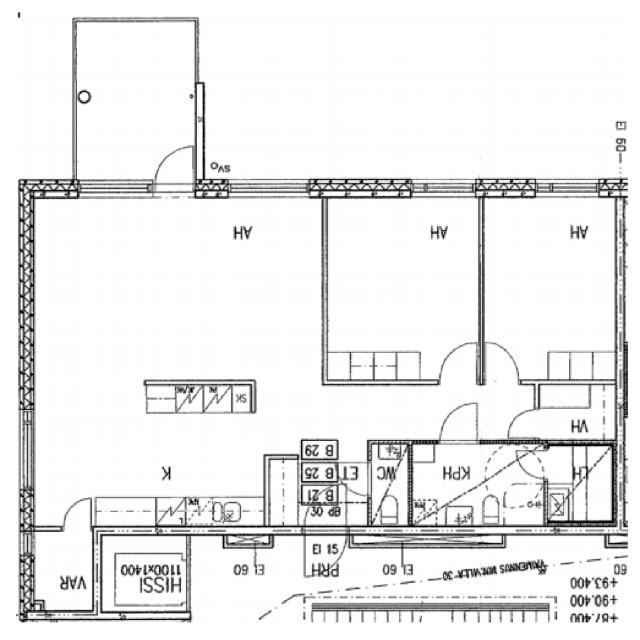door: (149, 140, 197, 197), (434, 396, 486, 448), (434, 334, 484, 388), (479, 336, 524, 389), (502, 402, 545, 446), (59, 494, 97, 534)
window: (13, 395, 42, 497), (220, 176, 312, 204), (75, 174, 155, 204), (531, 175, 601, 203), (416, 525, 492, 550), (404, 176, 478, 201), (556, 520, 610, 535), (120, 610, 177, 624), (16, 527, 37, 559)
zone: (35, 378, 276, 526), (321, 194, 485, 386), (477, 193, 623, 384), (74, 18, 198, 190), (408, 442, 542, 527), (95, 530, 189, 620), (24, 527, 99, 618), (542, 443, 617, 529), (534, 382, 622, 448), (266, 456, 345, 524), (299, 454, 370, 527), (367, 440, 411, 527), (264, 453, 300, 528)
